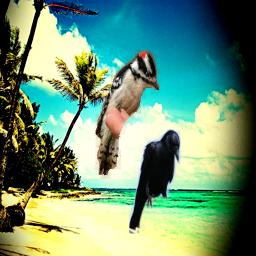Crow: (129, 129, 181, 234)
Woodpecker: (95, 49, 160, 179)
